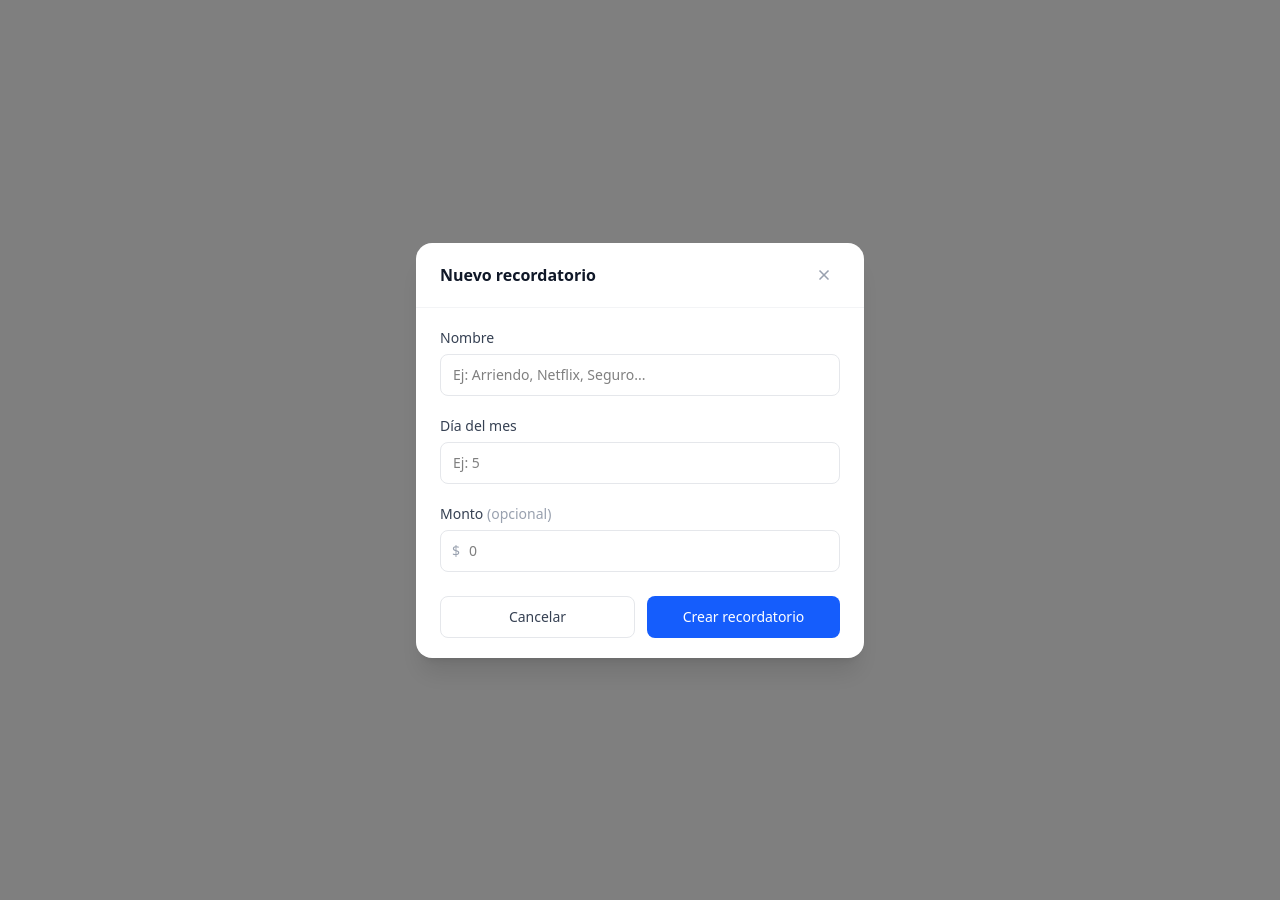
Test: RecordatorioModal — seguridad › muestra error si el nombre está vacío
Type "10" into the number field labelled "Día del mes" at (640, 462), box [440, 442, 840, 484]
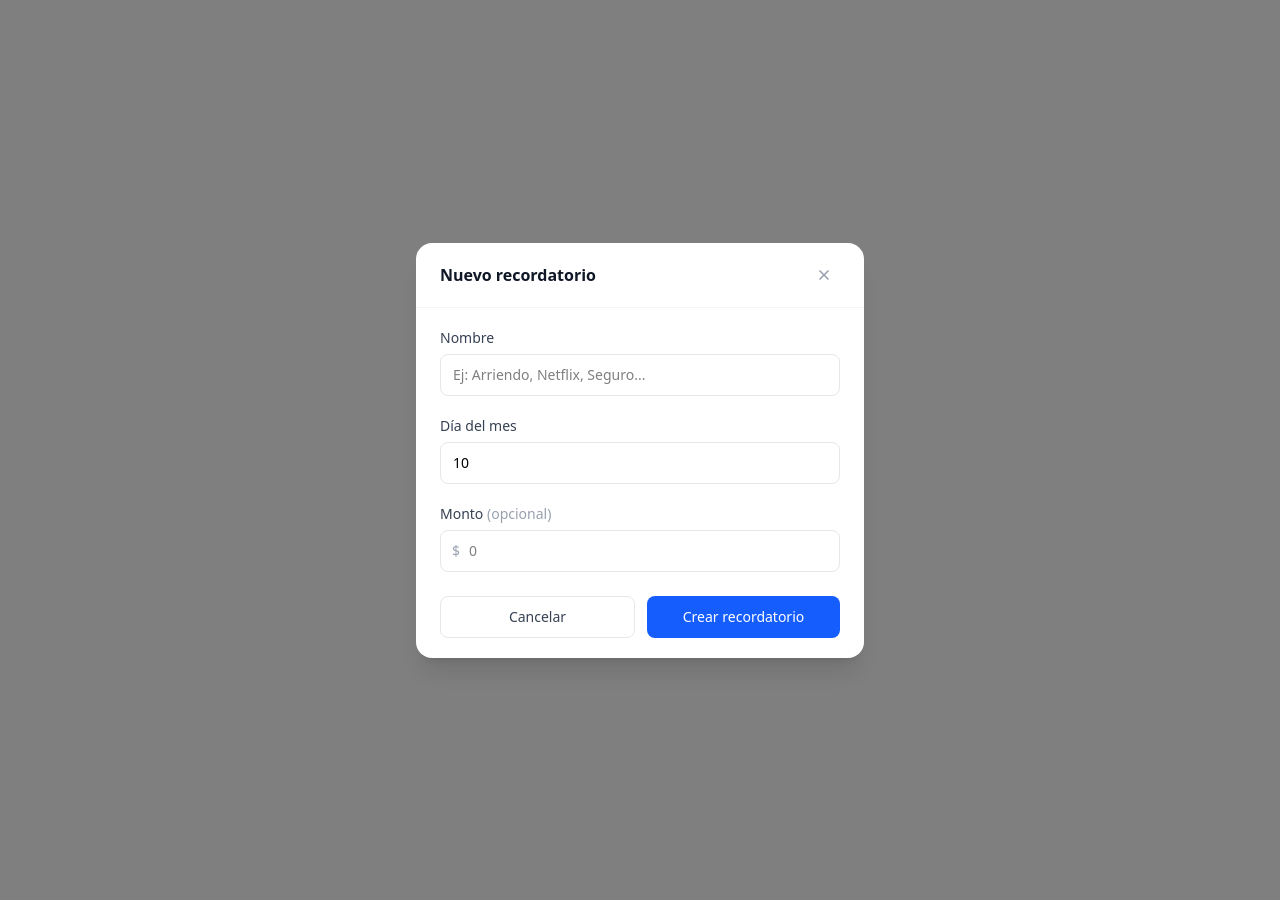
Submit the form labelled "Día del mes", box [416, 308, 864, 658]
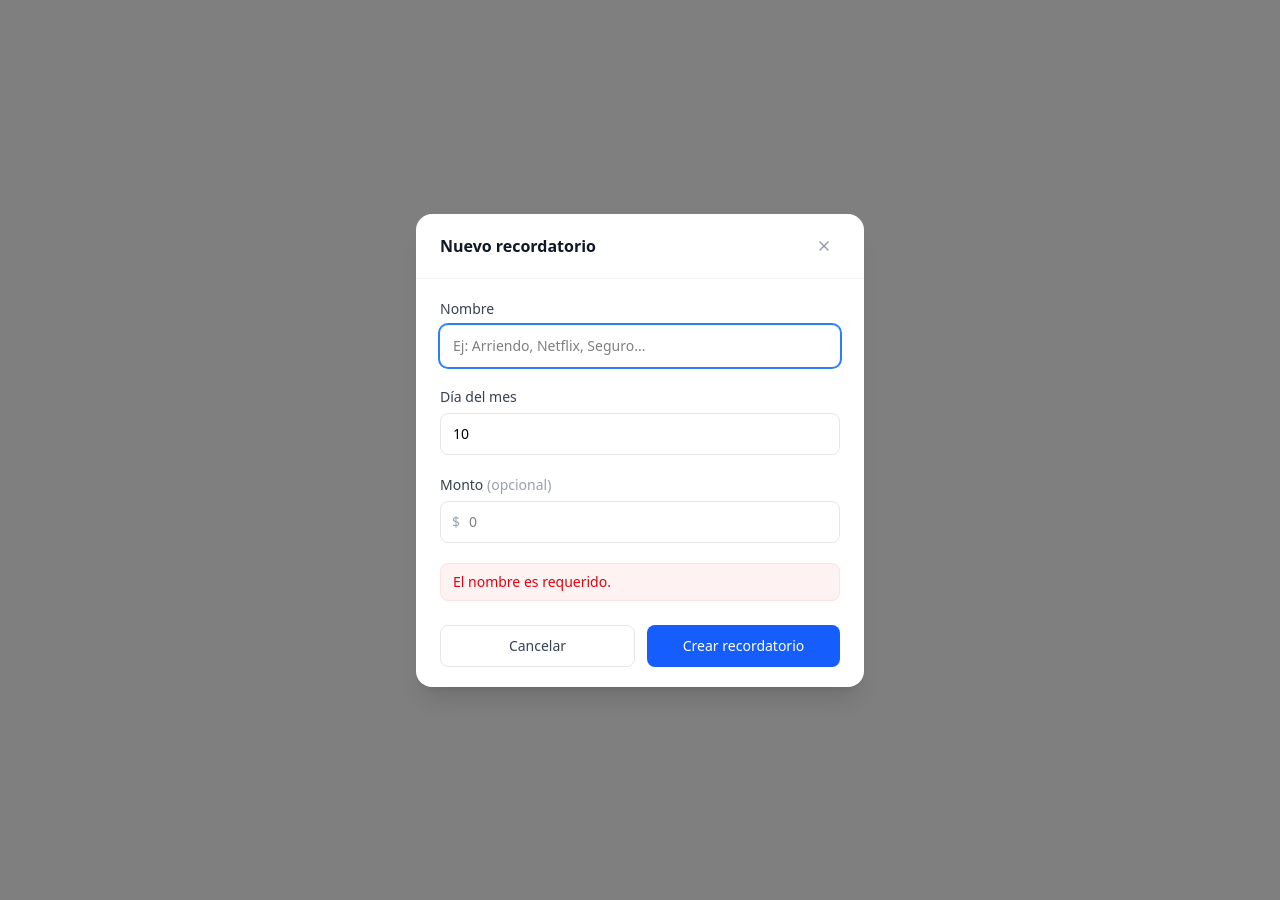
Result: the text "El nombre es requerido." is shown at [440, 562, 840, 600]
